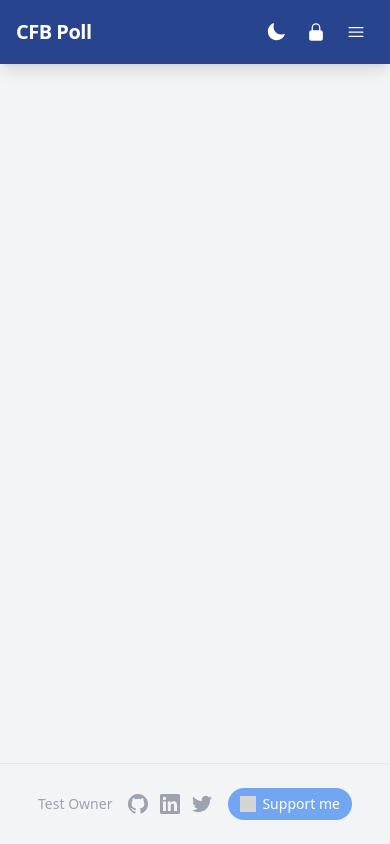
Scenario: Layout › closes mobile menu when close button is clicked
Step 1. Click the button named "Open menu" → [356, 32], box left=338, top=14, right=374, bottom=50
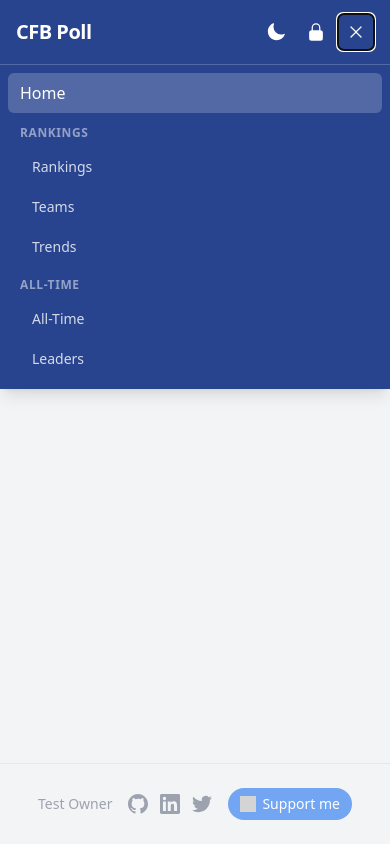
Now the button named "Close menu" is shown
Step 2. Click the button named "Close menu" → [356, 32], box left=338, top=14, right=374, bottom=50
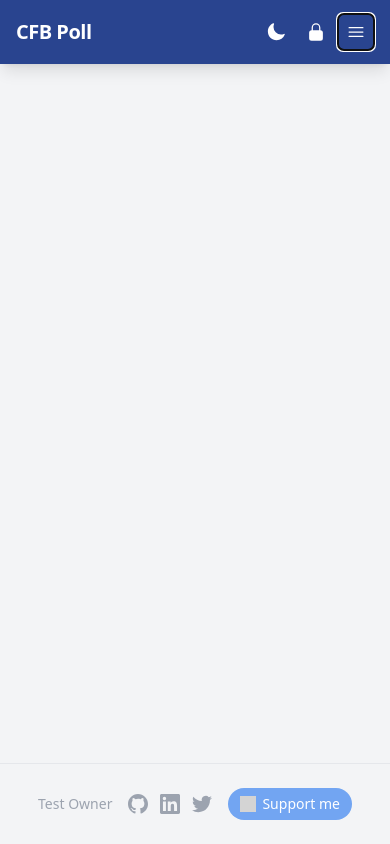
Now the button named "Open menu" is shown, box left=338, top=14, right=374, bottom=50
